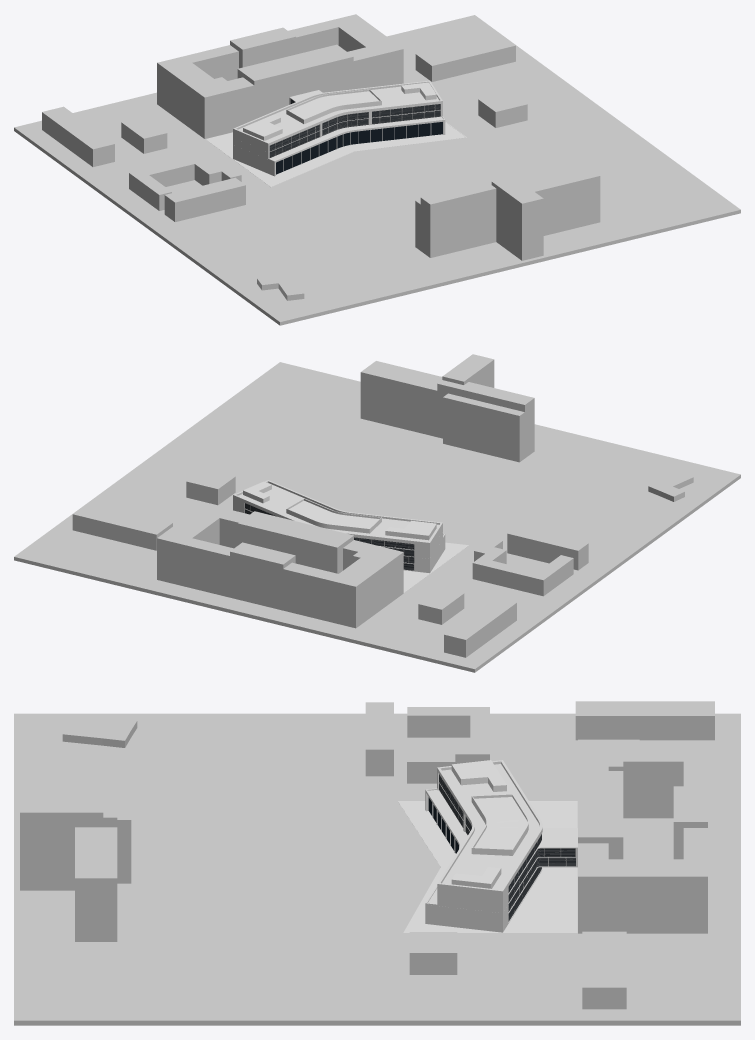
File: campus_web_test.gltf
The picture shows the model from 3 angles, top to bottom: view 1: azimuth 30°, elevation 25°; view 2: azimuth 150°, elevation 25°; view 3: azimuth 270°, elevation 25°; orthographic projection. The views are drawn at different scales.
Visible parts, largest first — view 1: backr_buildings, lvl_3, lvl_2, ground, main_B, lvl1; view 2: backr_buildings, lvl_3, ground; view 3: backr_buildings, lvl_3, ground, lvl_2, lvl1, main_B.
Boxes of the visible parts, x1=… form: backr_buildings: x1=14, y1=14, x2=740, y2=325; lvl_3: x1=233, y1=80, x2=442, y2=152; lvl_2: x1=233, y1=90, x2=445, y2=162; ground: x1=205, y1=122, x2=466, y2=186; main_B: x1=233, y1=127, x2=445, y2=176; lvl1: x1=233, y1=104, x2=445, y2=169; backr_buildings: x1=14, y1=354, x2=740, y2=672; lvl_3: x1=233, y1=480, x2=442, y2=551; ground: x1=403, y1=542, x2=468, y2=592; backr_buildings: x1=14, y1=701, x2=740, y2=1025; lvl_3: x1=437, y1=760, x2=542, y2=903; ground: x1=398, y1=801, x2=577, y2=932; lvl_2: x1=425, y1=780, x2=577, y2=913; lvl1: x1=425, y1=791, x2=577, y2=922; main_B: x1=425, y1=800, x2=542, y2=932.
Size of the model in its own units: 270 by 34 by 270.
5 materials, 1 textured.
